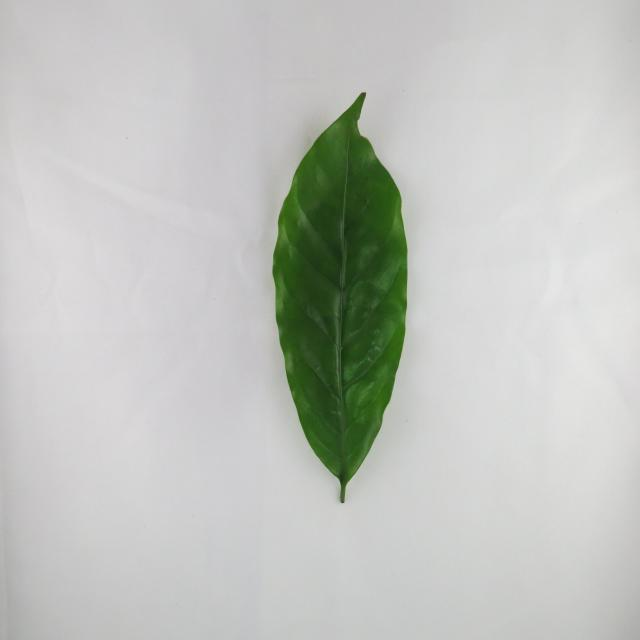DeficienciaNutricional-Calcio: (272, 93, 408, 502)
